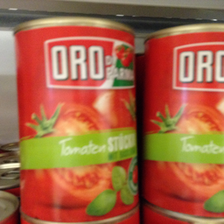tomato_sauce: (12, 17, 139, 223), (141, 22, 223, 220)
